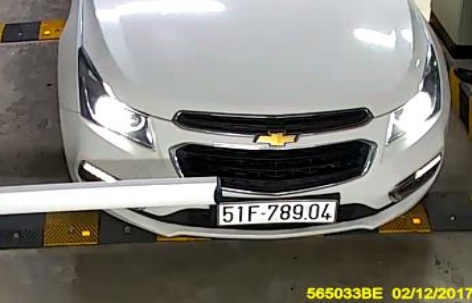plate: (215, 198, 340, 231)
